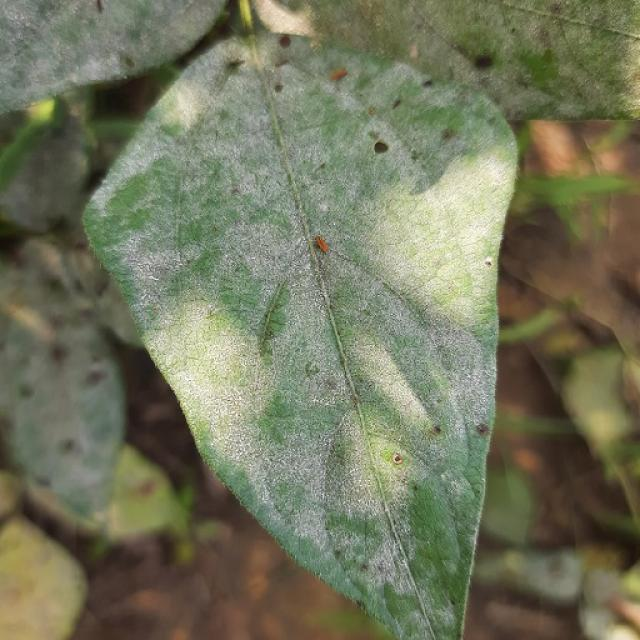Blackgram: (80, 30, 524, 639)
Powdery_Mildew: (329, 245, 493, 407), (203, 417, 400, 521), (166, 314, 344, 410), (264, 46, 327, 185), (102, 222, 192, 310), (170, 78, 253, 173), (356, 527, 440, 601), (90, 128, 164, 208), (418, 418, 480, 508), (241, 218, 306, 294), (356, 104, 415, 187), (402, 604, 467, 640)
